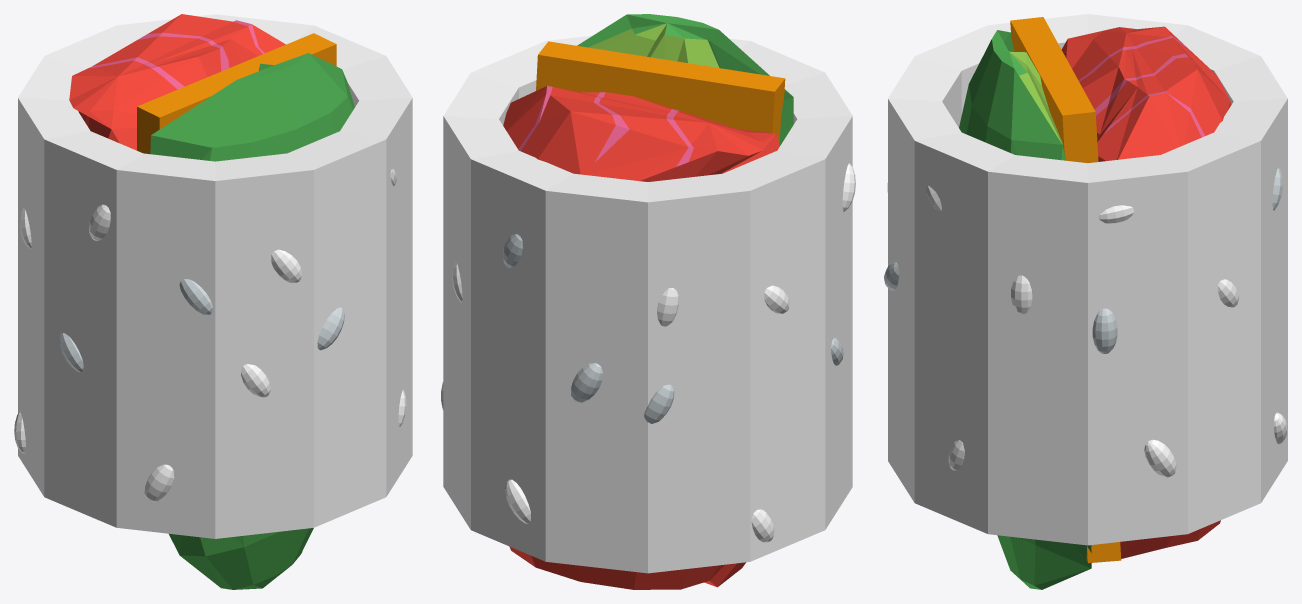
Rendered from sushi.fbx.
3 renders of one model, left to right at view 1: azimuth 30°, elevation 25°; view 2: azimuth 150°, elevation 25°; view 3: azimuth 270°, elevation 25°, orthographic. The views are drawn at different scales.
Visible parts, largest first — view 1: group_940964618; view 2: group_940964618; view 3: group_940964618.
Part boxes in pixels (x1,y1,x2,y2): group_940964618: (14, 14, 412, 589); group_940964618: (441, 14, 855, 589); group_940964618: (884, 14, 1287, 589).
Size of the model in its own units: 119 by 174 by 118.
